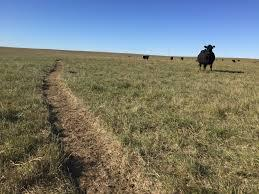cow: (196, 45, 218, 71), (143, 53, 150, 59)
